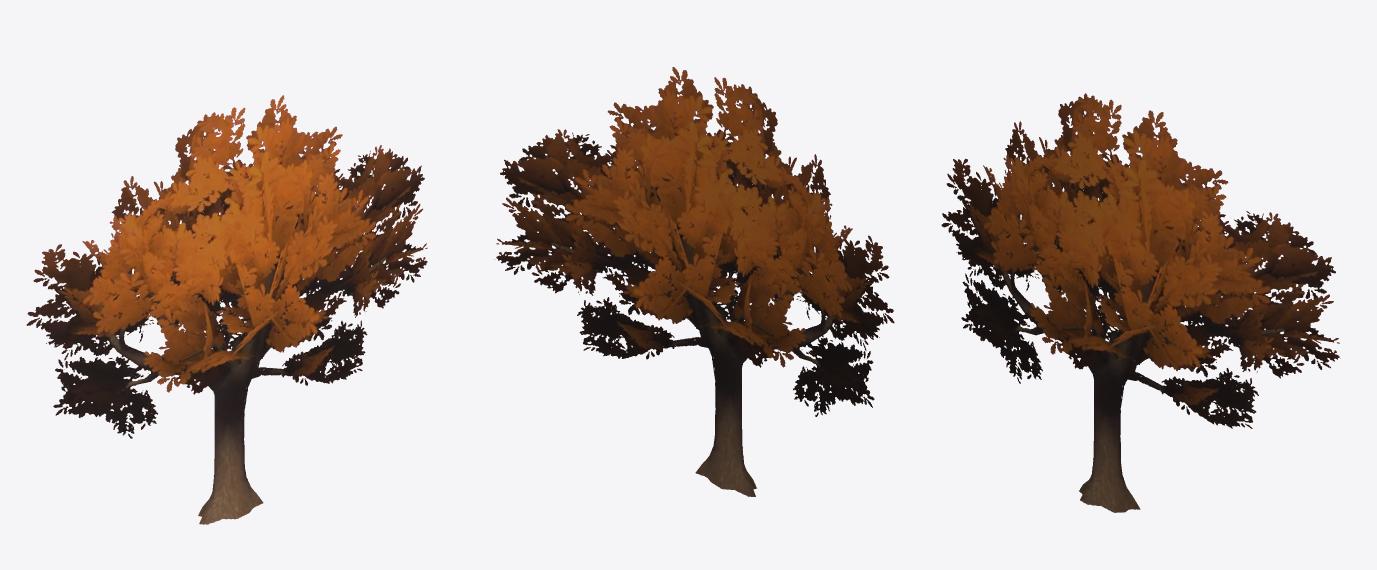
3 views of the same model, side by side, from view 1: azimuth 30°, elevation 25°; view 2: azimuth 150°, elevation 25°; view 3: azimuth 330°, elevation 25° (orthographic).
Parts seen in each view (by area): view 1: body0_model0_lod0_mesh0; view 2: body0_model0_lod0_mesh0; view 3: body0_model0_lod0_mesh0.
Part boxes in pixels (x1,y1,x2,y2): body0_model0_lod0_mesh0: [26, 95, 427, 524]; body0_model0_lod0_mesh0: [495, 67, 894, 496]; body0_model0_lod0_mesh0: [941, 93, 1340, 512].
Size of the model in its own units: 42.94 by 41.63 by 3.65.
1 material, 1 textured.
